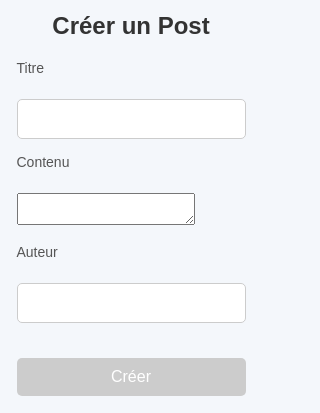
Test: PostForm › appelle addPost et affiche le toastr de succès
In the field labelled "Titre": (131, 119) x1=16 y1=99 x2=246 y2=139, type "Mon titre"
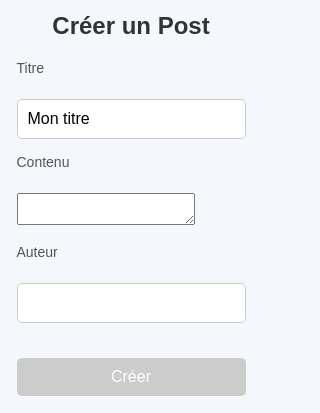
In the text box labelled "Contenu": (106, 209) x1=16 y1=193 x2=194 y2=225, type "Mon contenu"
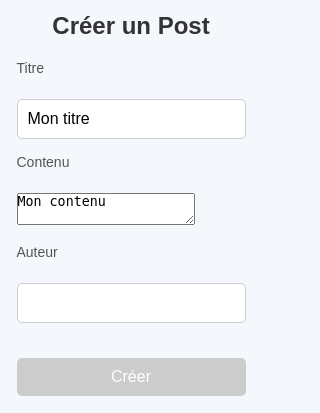
In the field labelled "Auteur": (131, 303) x1=16 y1=283 x2=246 y2=323, type "Alice"
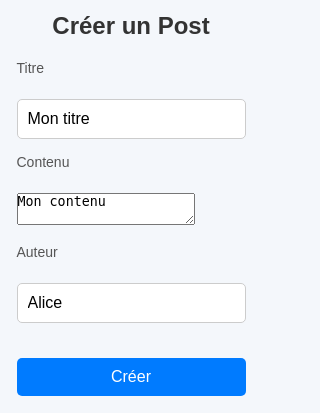
Click the button "Créer": (131, 377) x1=16 y1=358 x2=246 y2=396
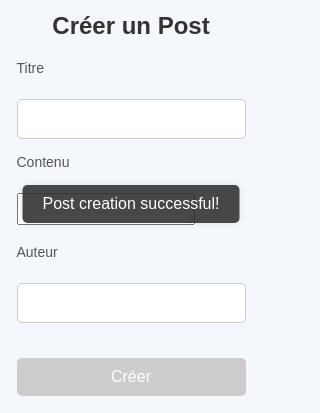
Result: the text "Post creation successful!" is shown at x1=22 y1=185 x2=240 y2=223
